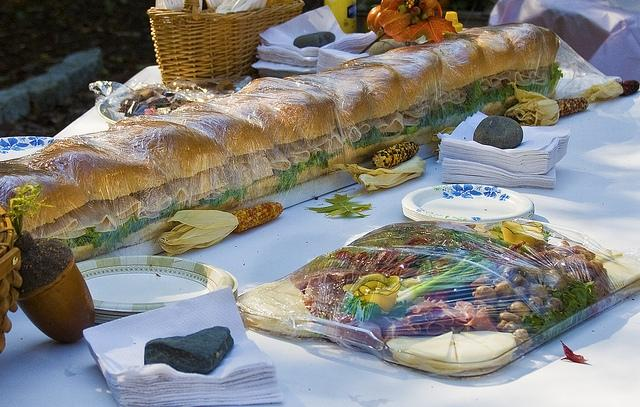corn: (504, 81, 588, 127), (230, 202, 284, 233), (372, 141, 419, 168)
lettuce: (419, 80, 514, 131), (520, 280, 596, 338), (276, 150, 342, 190), (516, 62, 563, 96), (198, 187, 246, 208), (91, 226, 128, 250), (351, 126, 382, 150), (158, 200, 193, 218), (400, 124, 422, 135)
